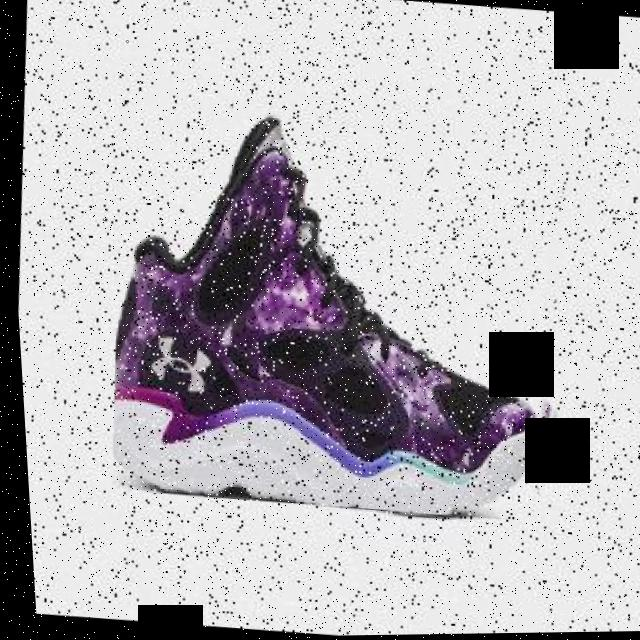shoe: (87, 92, 586, 529)
